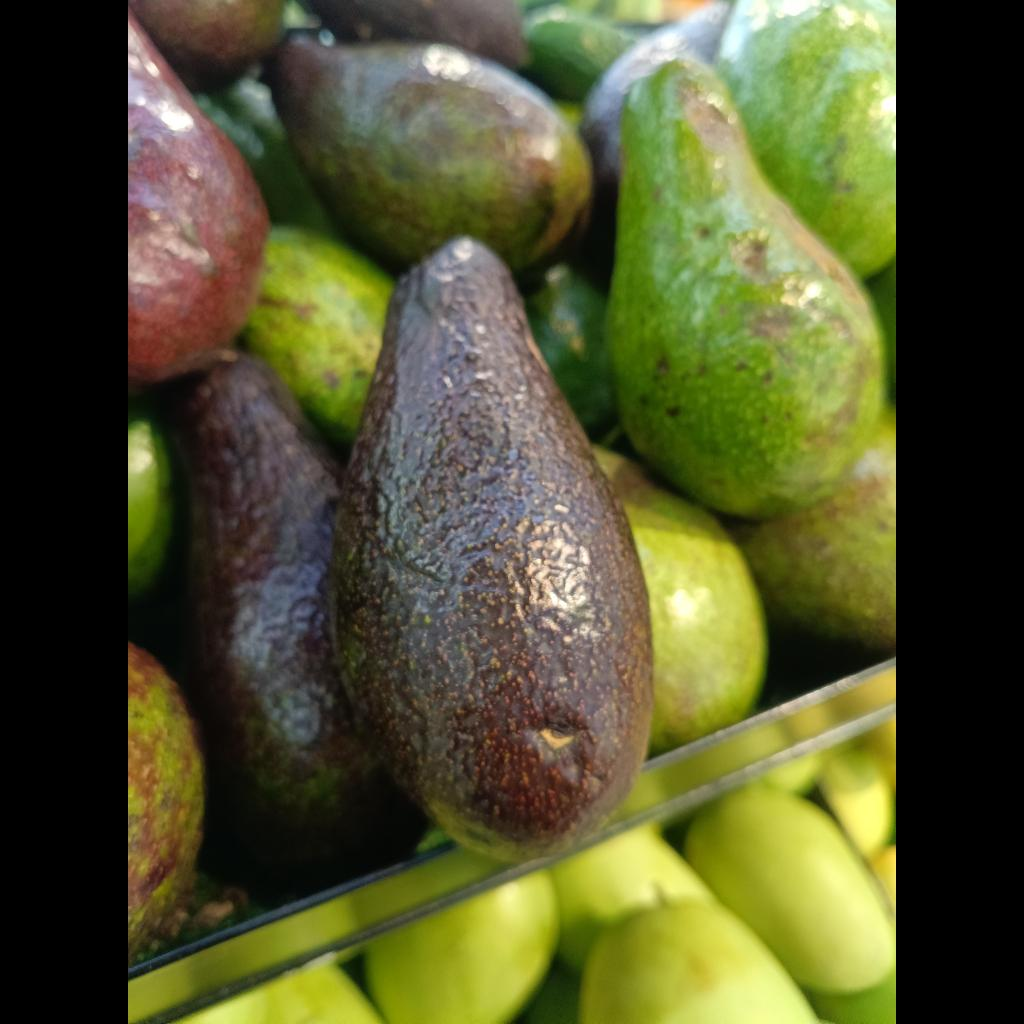antracnosis_fruto: (331, 237, 653, 859)
